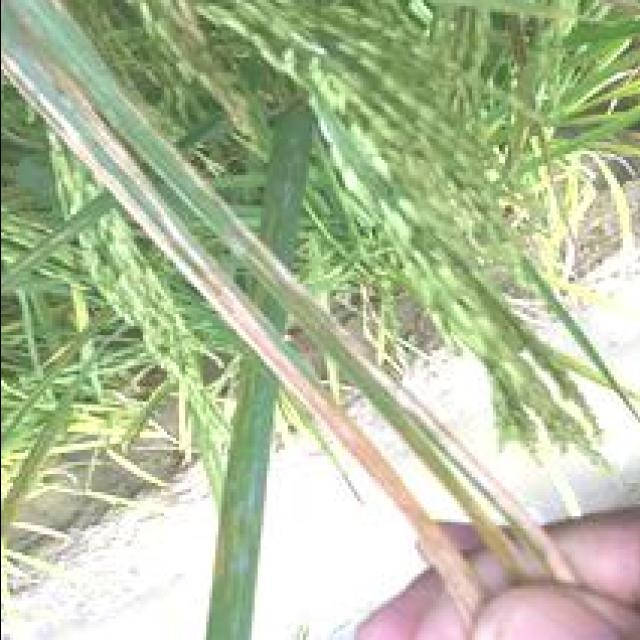Bacterial_Leaf_Blight: (202, 296, 438, 607)
